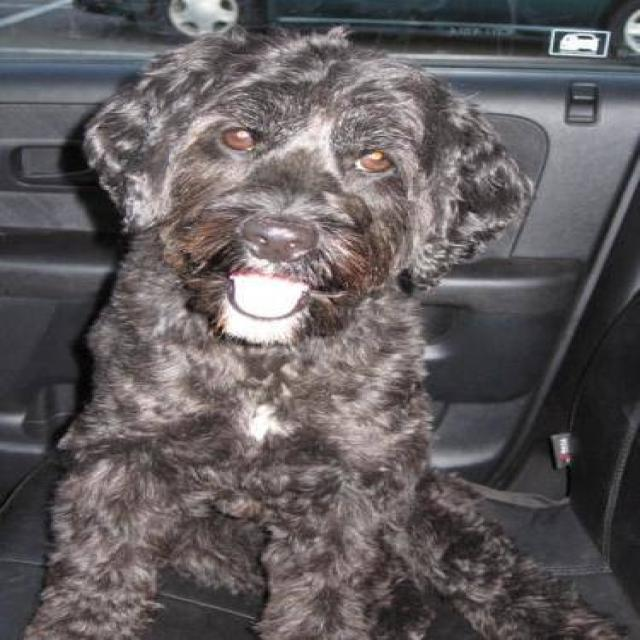dog: (9, 22, 636, 639)
